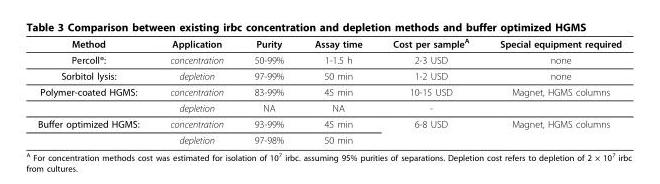table: (37, 36, 620, 145)
table column: (483, 36, 620, 145), (37, 36, 154, 145), (376, 36, 483, 145), (154, 36, 238, 145), (298, 36, 376, 145), (238, 36, 298, 145)
table column header: (37, 36, 620, 51)
table row: (37, 51, 620, 67), (37, 67, 620, 83), (37, 83, 620, 99), (37, 99, 620, 115), (37, 115, 620, 131), (37, 36, 620, 51), (37, 131, 620, 145)
table spanning cell: (37, 83, 154, 115), (37, 115, 154, 145)
